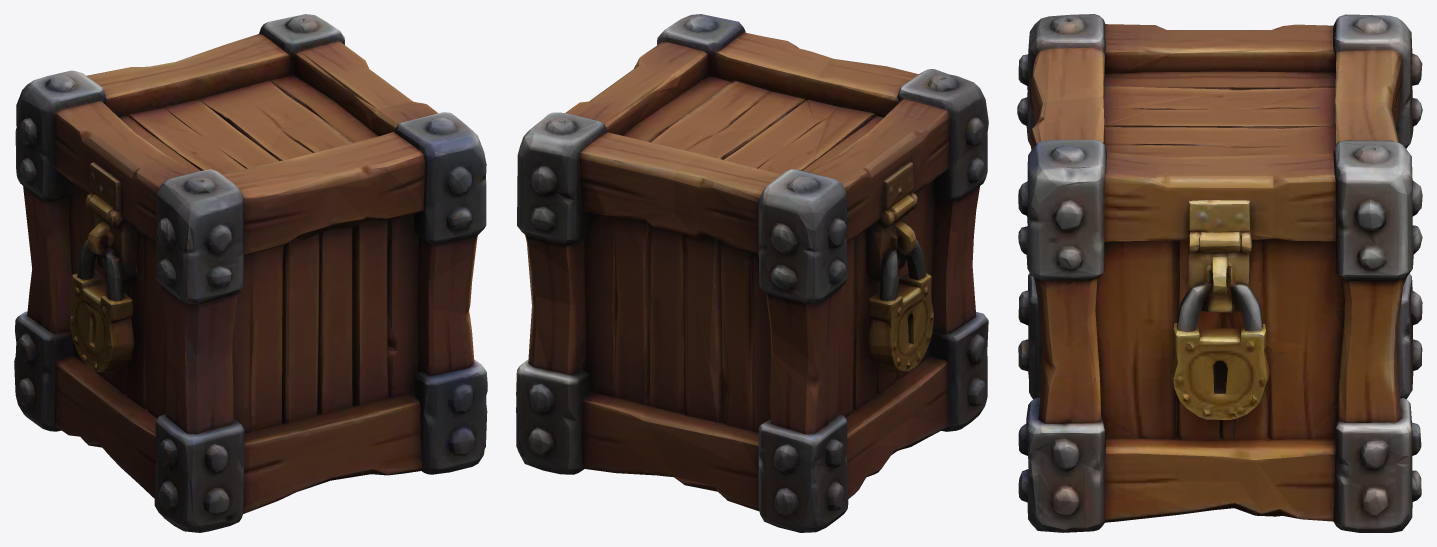
Rendered from crate.glb.
3 views of the same model, side by side, from view 1: azimuth 30°, elevation 25°; view 2: azimuth 150°, elevation 25°; view 3: azimuth 270°, elevation 25° (orthographic). The views are drawn at different scales.
Visible parts, largest first — view 1: world; view 2: world; view 3: world.
Part boxes in pixels (box(x1,y1,x2,y2)): world: box(14, 14, 487, 532); world: box(516, 14, 988, 532); world: box(1017, 14, 1422, 532).
Bounding box in the file's own units: 0.9903 × 0.9939 × 0.9779.
Materials: 1 (1 with a texture image).
